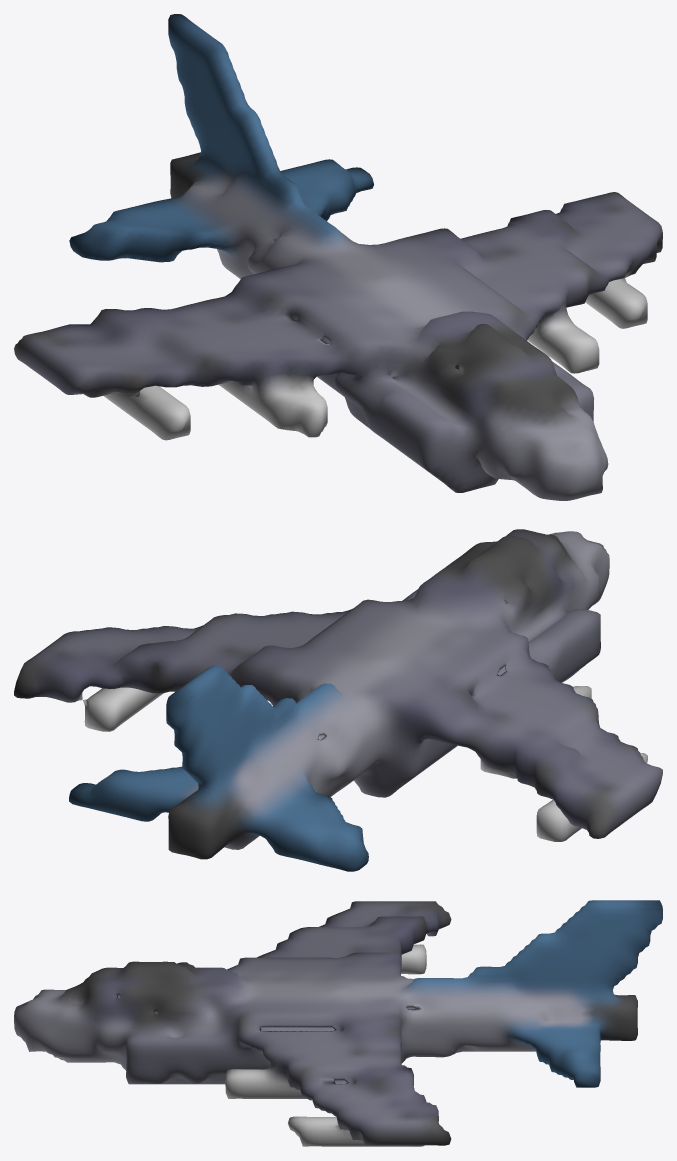
Rendered from orca.glb.
The picture shows the model from 3 angles, top to bottom: view 1: azimuth 30°, elevation 25°; view 2: azimuth 150°, elevation 25°; view 3: azimuth 270°, elevation 25°; orthographic projection. The views are drawn at different scales.
Parts seen in each view (by area): view 1: orca; view 2: orca; view 3: orca.
Part boxes in pixels (x1=…): orca: x1=14, y1=14, x2=662, y2=500; orca: x1=14, y1=529, x2=662, y2=871; orca: x1=14, y1=900, x2=662, y2=1146.
Bounding box in the file's own units: 3.55 × 1.23 × 4.32.
